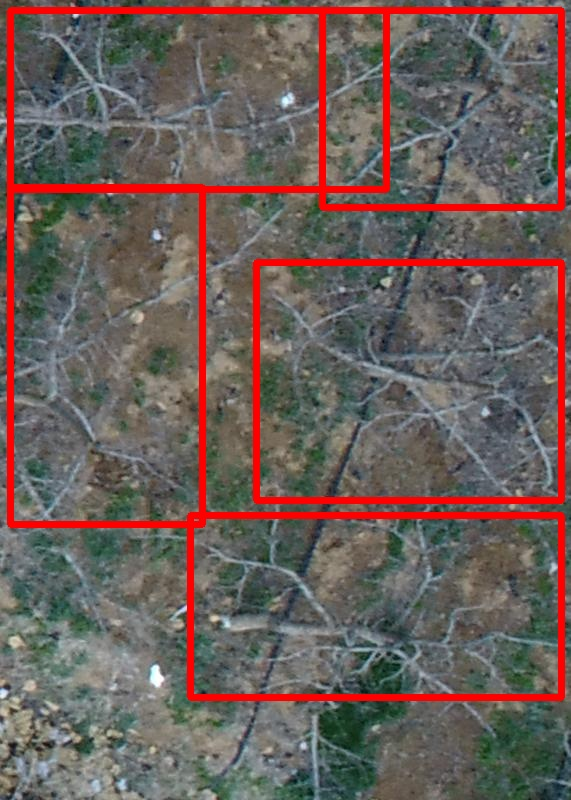apple: (256, 262, 561, 500), (190, 515, 561, 697), (10, 10, 386, 189), (10, 187, 202, 524), (322, 10, 561, 207)
